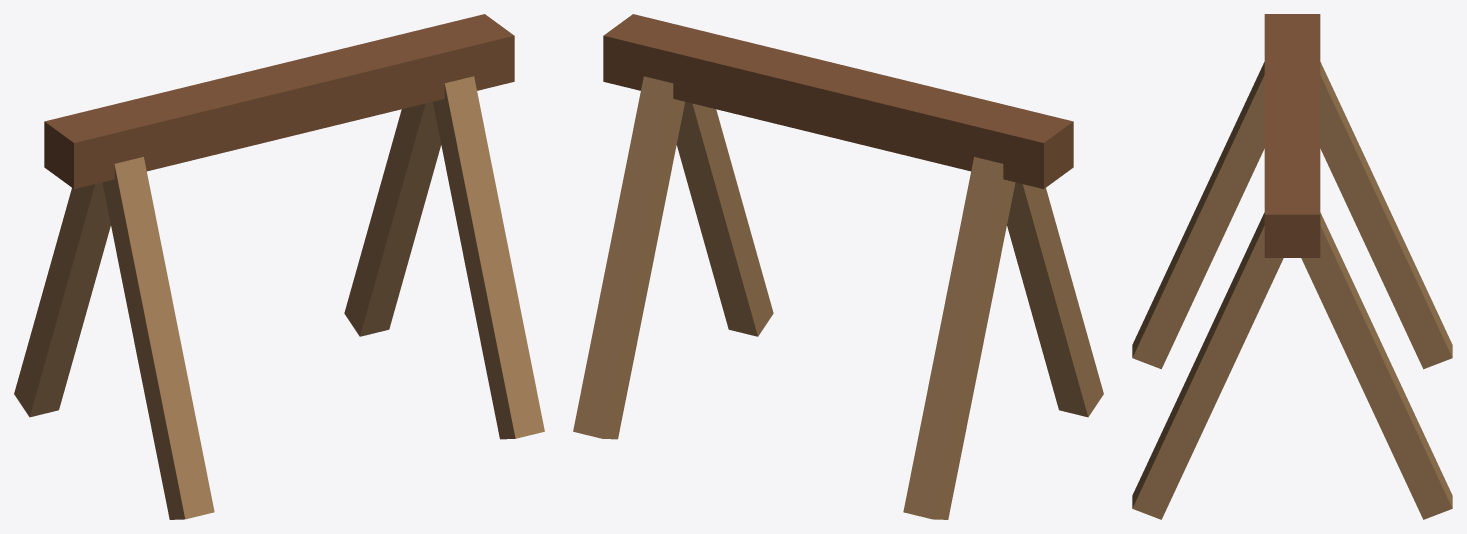
File: sawhorse.glb
The picture shows the model from 3 angles, left to right: view 1: azimuth 30°, elevation 25°; view 2: azimuth 150°, elevation 25°; view 3: azimuth 270°, elevation 25°; orthographic projection. The views are drawn at different scales.
Parts seen in each view (by area): view 1: sawhorse; view 2: sawhorse; view 3: sawhorse.
Boxes of the visible parts, x1,y1,x2,y2 form: sawhorse: [14, 14, 544, 519]; sawhorse: [573, 14, 1103, 519]; sawhorse: [1132, 14, 1452, 519].
Size of the model in its own units: 1.2 by 0.9016 by 0.8086.
